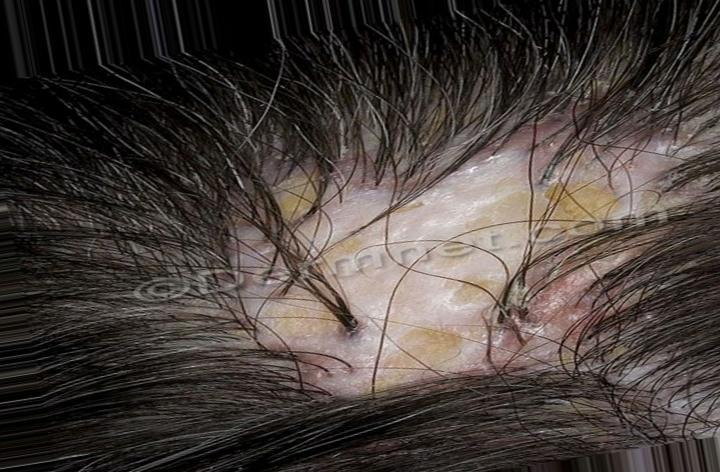Folliculitis: (238, 161, 602, 400)
